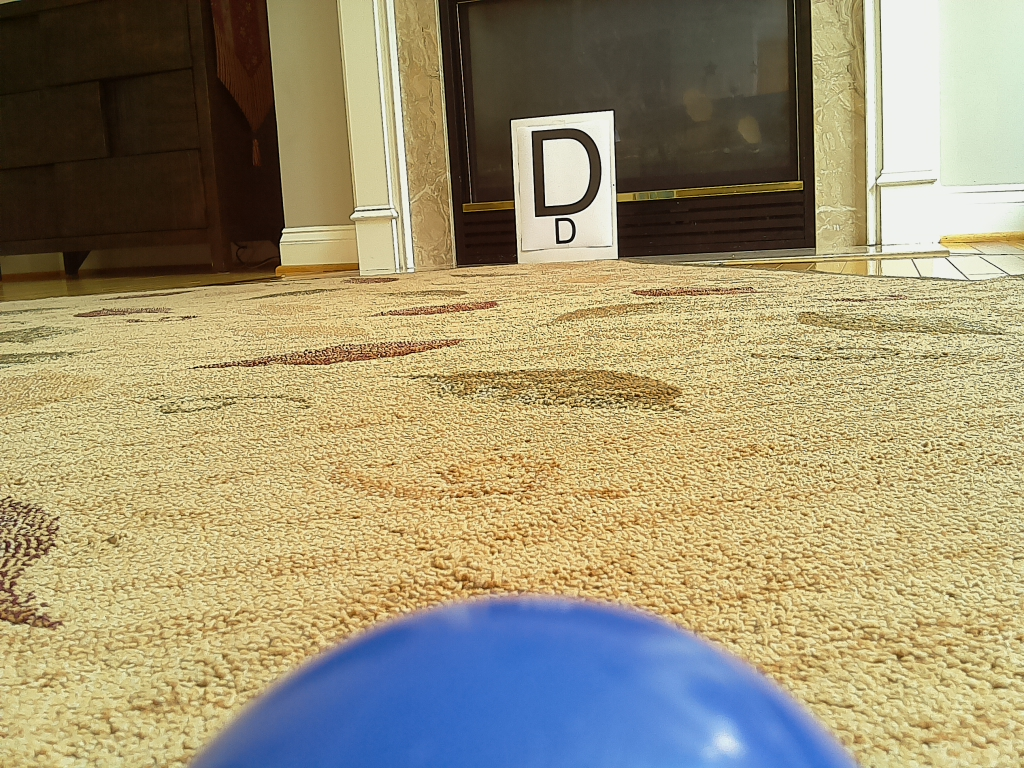letter: (535, 129, 605, 216)
